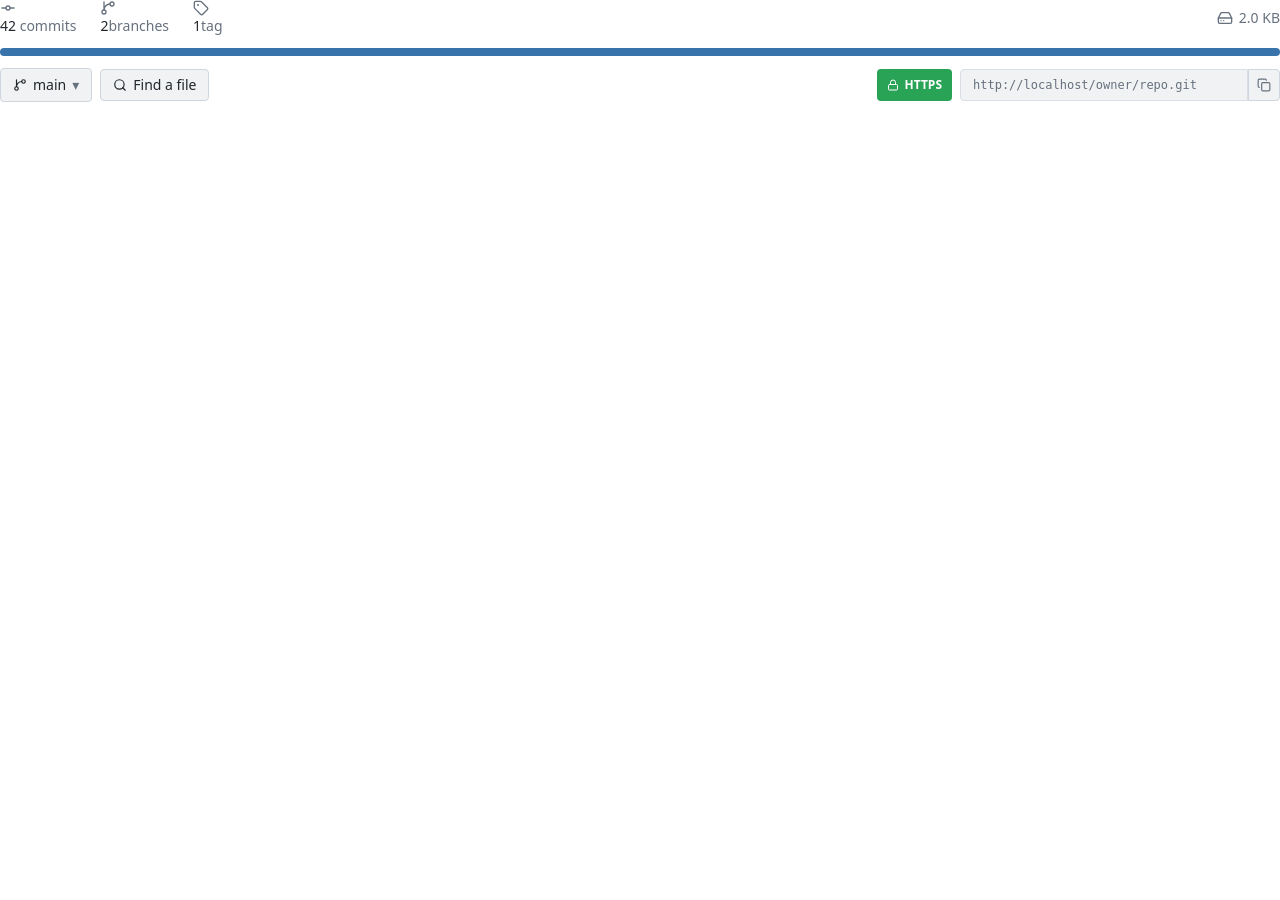
RepoStats › lists branches in the dropdown
Step 1. Click the button with test id "branch-selector" → (46,85), box [0,68,92,102]
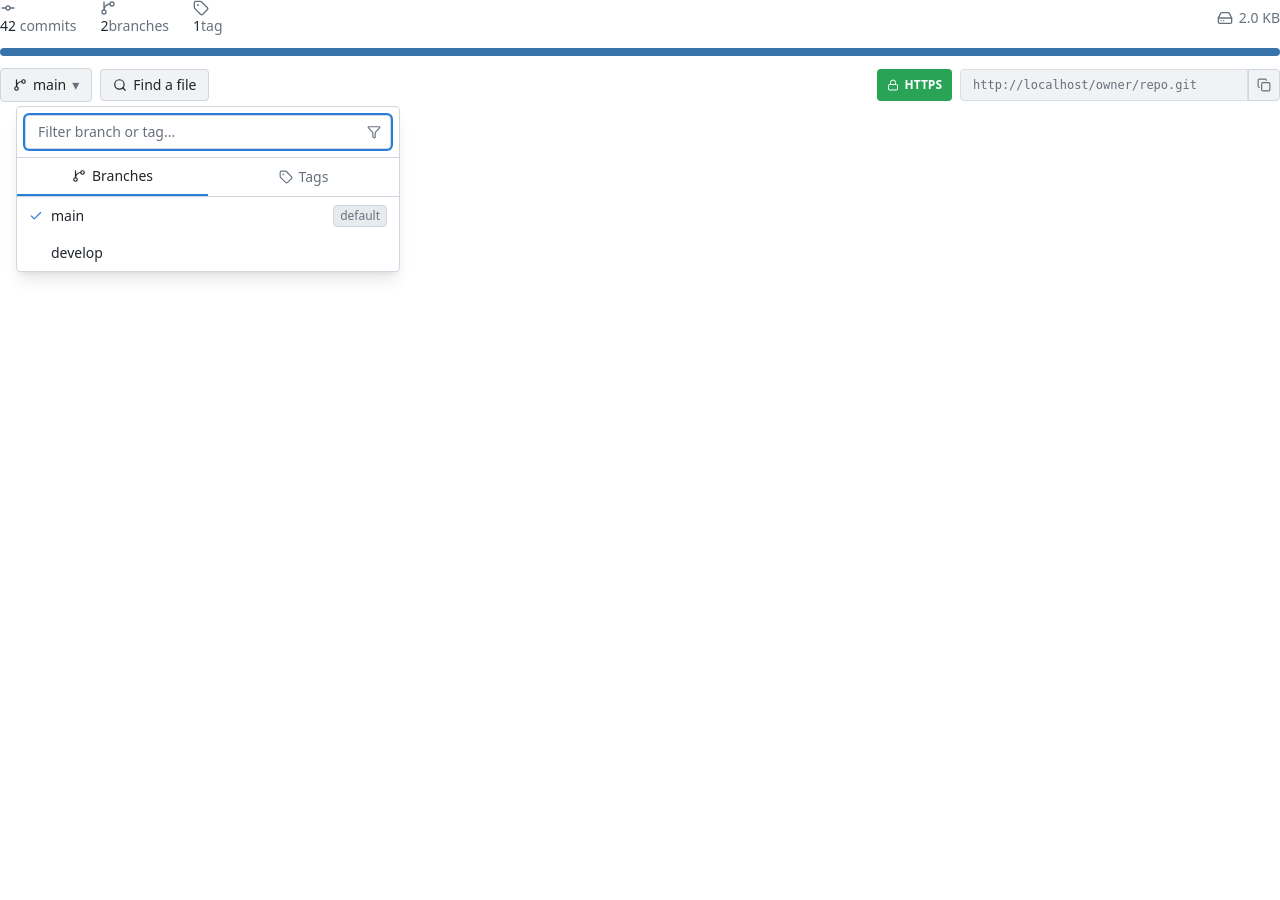
Check: the dialog with test id "branch-dropdown" is shown, box [16,106,400,272]
Check: the option with test id "branch-option-main" is shown, box [17,197,399,235]
Check: the option with test id "branch-option-develop" is shown, box [17,235,399,271]
